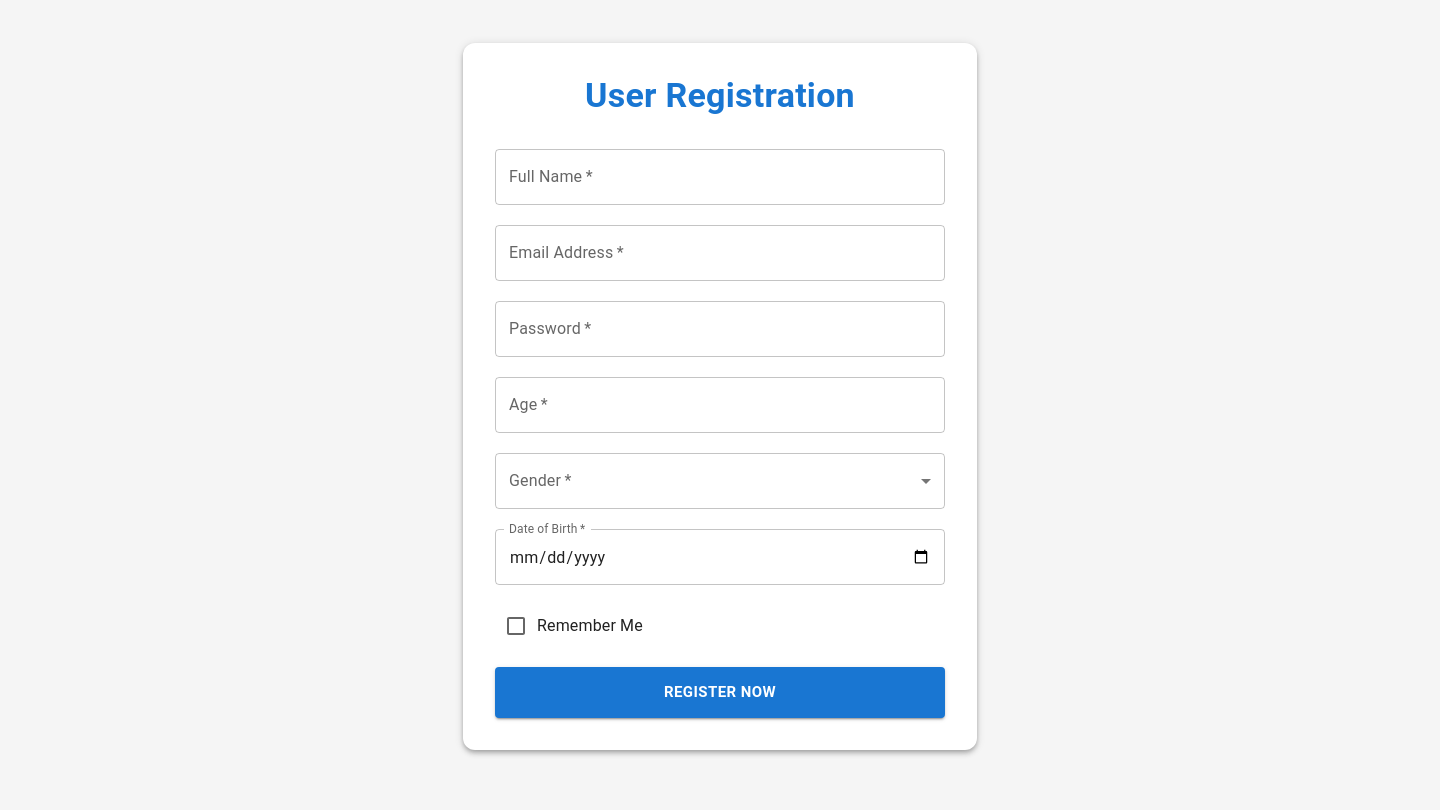
Test case: User Application Tests › Home Page - Registration Form › opens success dialog on valid form submission
The width and height of the screenshot is (1440, 810).
Type "John Doe" into the field labelled "Full Name *" at x=720, y=177, box [495,149,945,205]
Type "john@test.com" into the field labelled "Email Address *" at x=720, y=253, box [495,225,945,281]
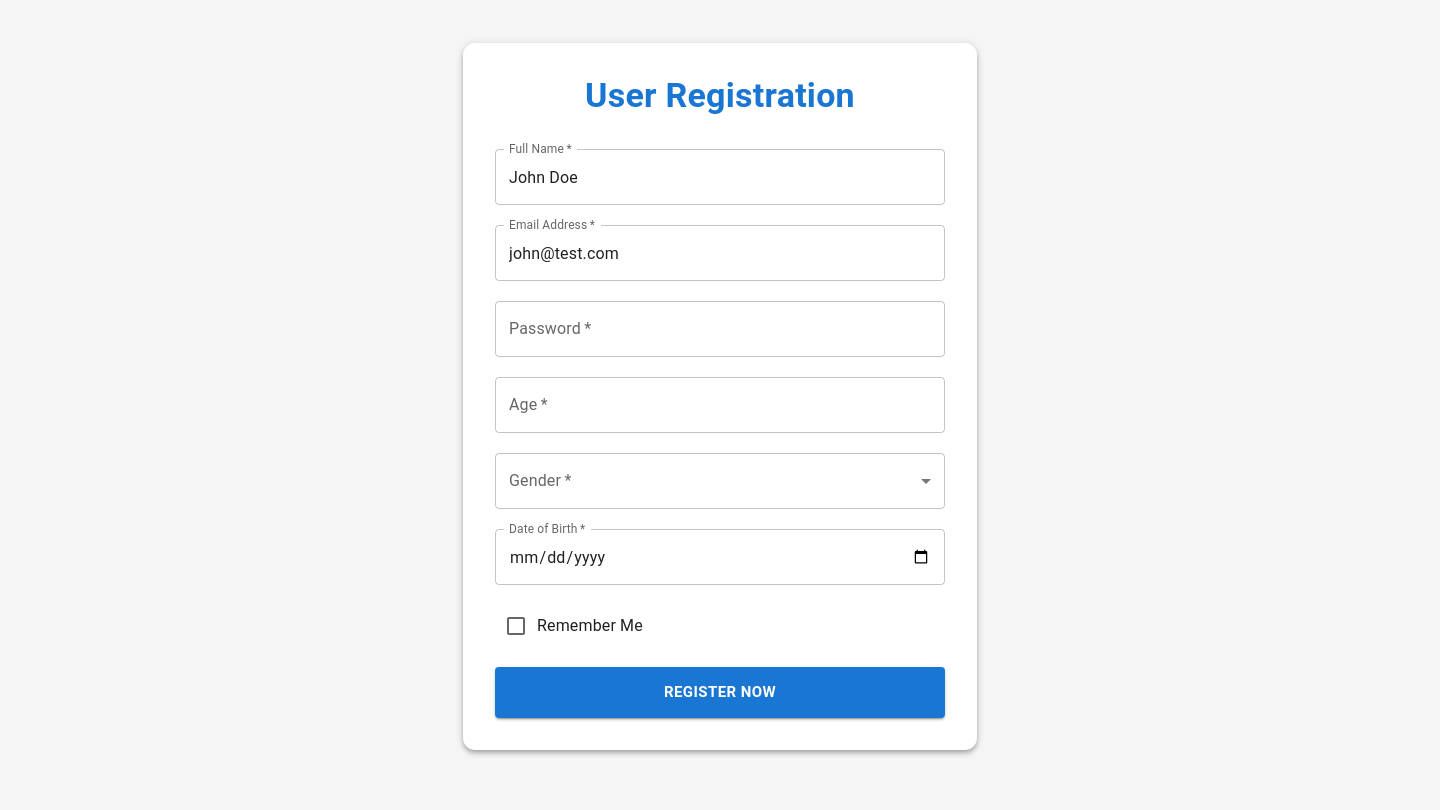
Type "password123" into the password field labelled "Password *" at x=720, y=329, box [495,301,945,357]
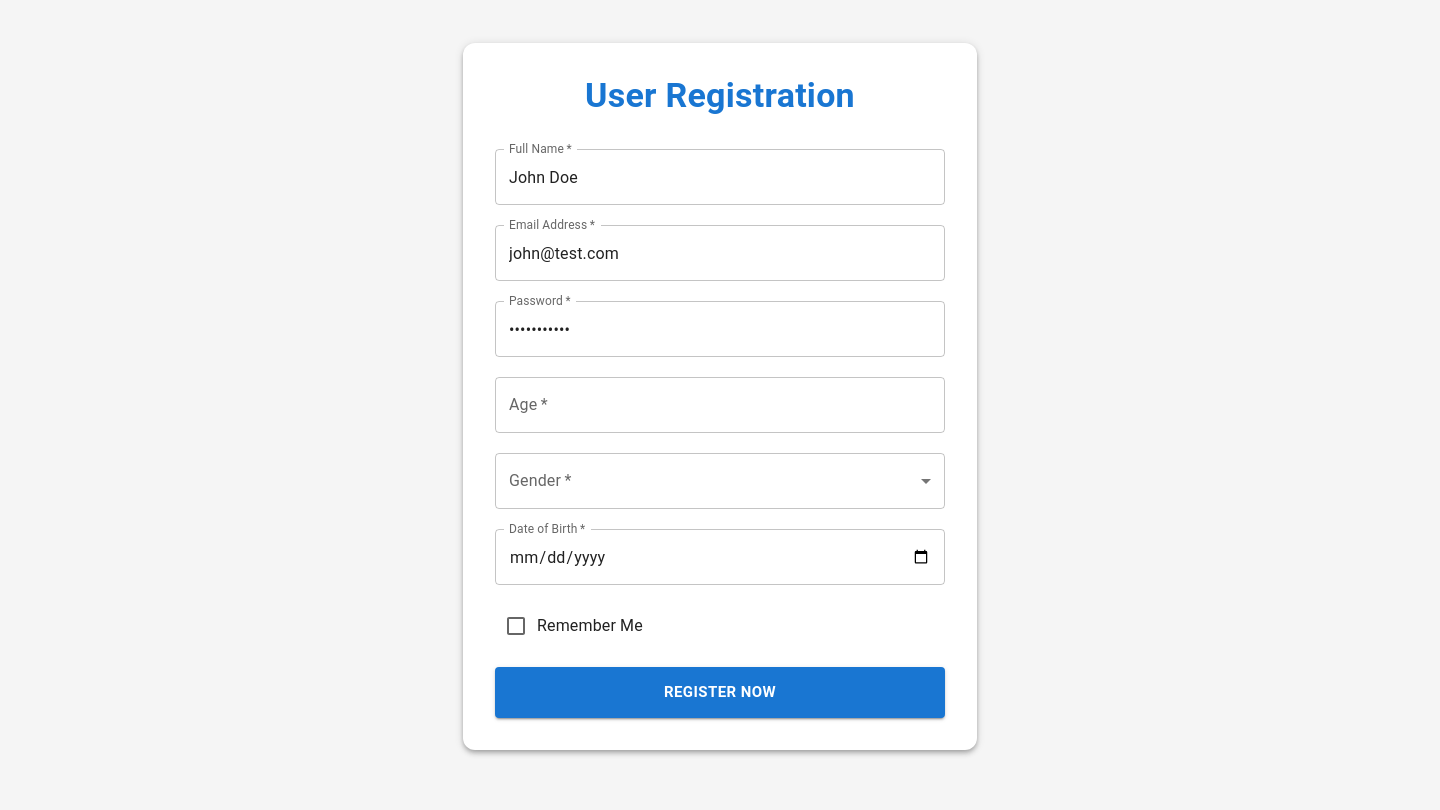
Type "25" into the number field labelled "Age *" at x=720, y=405, box [495,377,945,433]
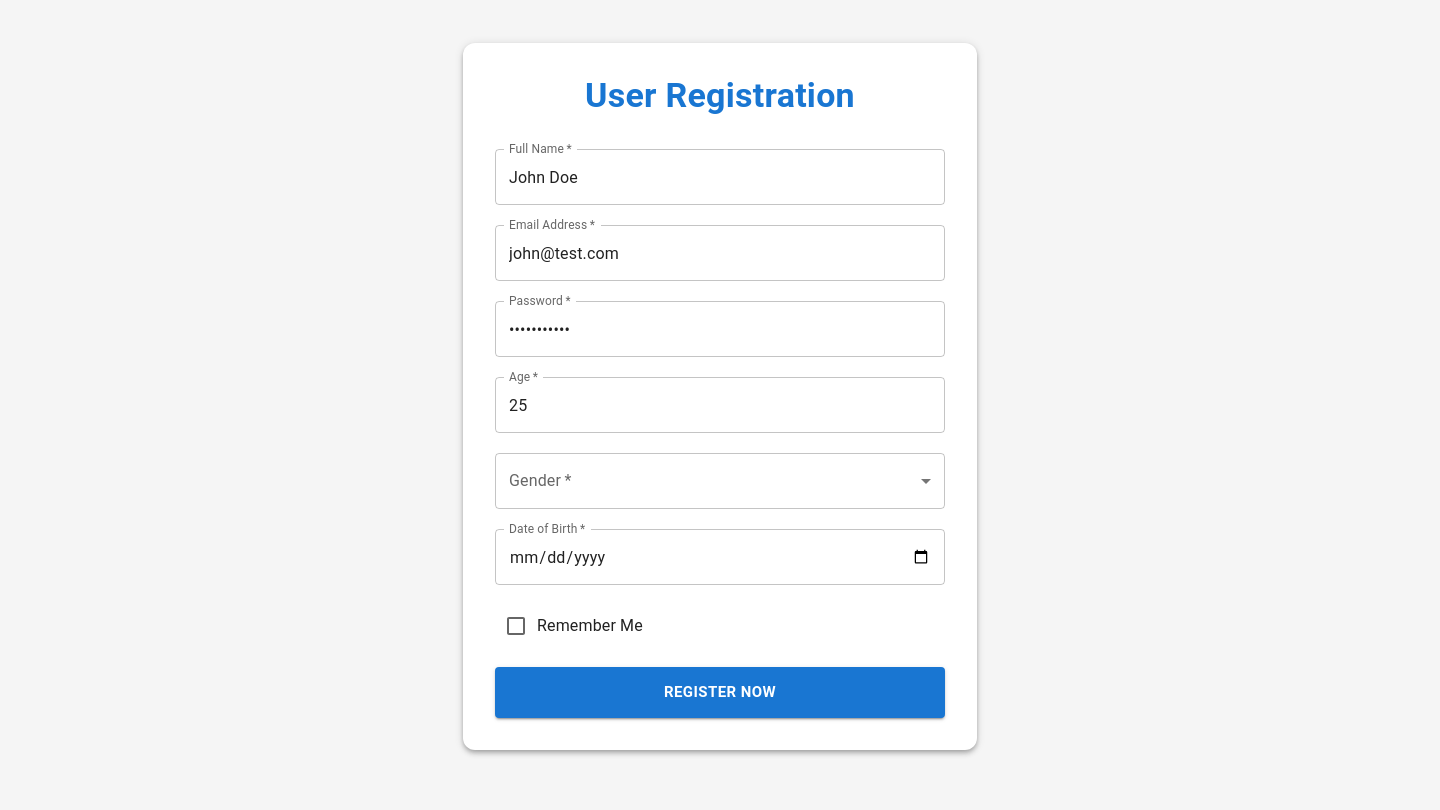
Type "1999-01-01" into the date field labelled "Date of Birth *" at x=720, y=557, box [495,529,945,585]
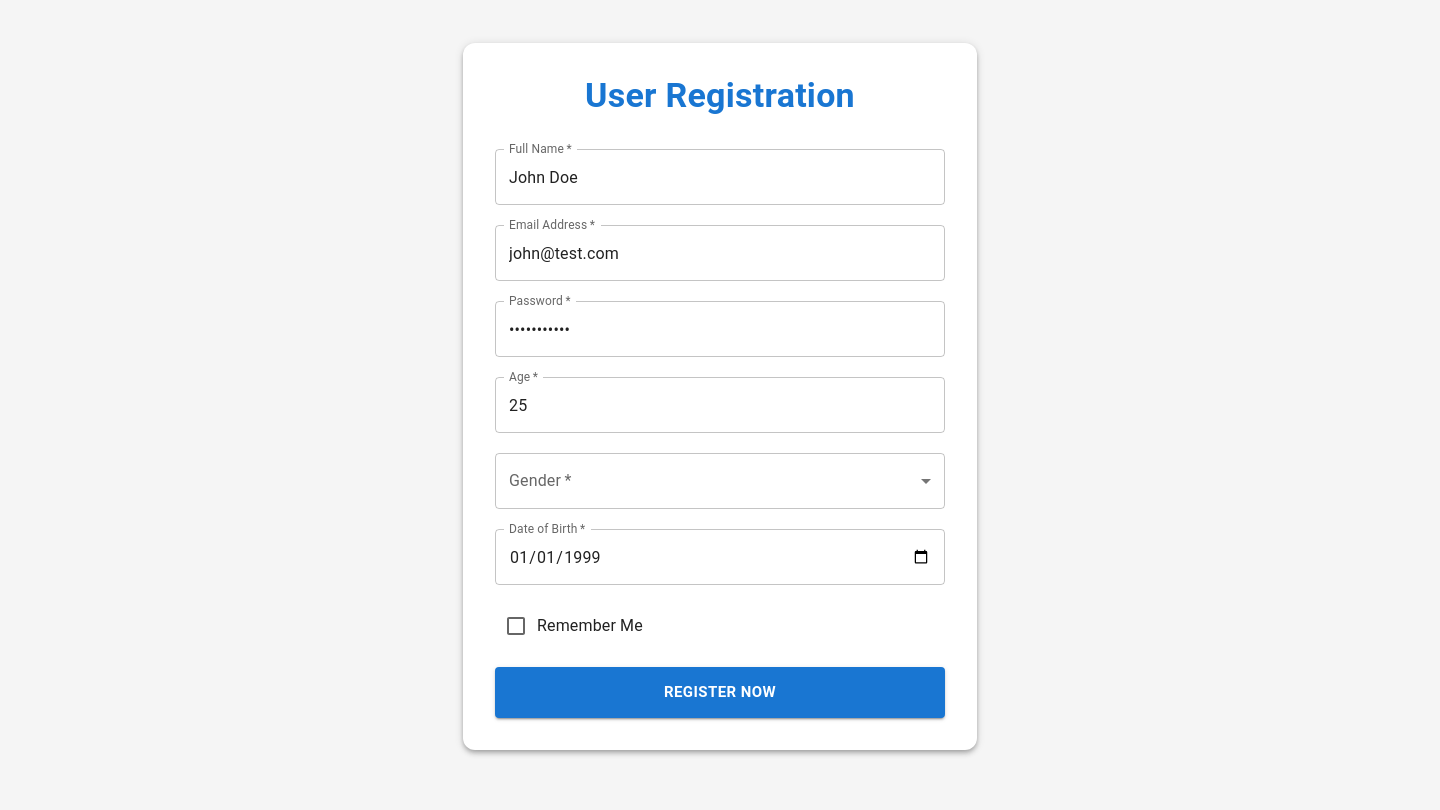
Note: Fix for MUI Select: Target the hidden input by name
Replace the text in the field named "gender" with "male" at x=720, y=481, box [495,453,945,509]
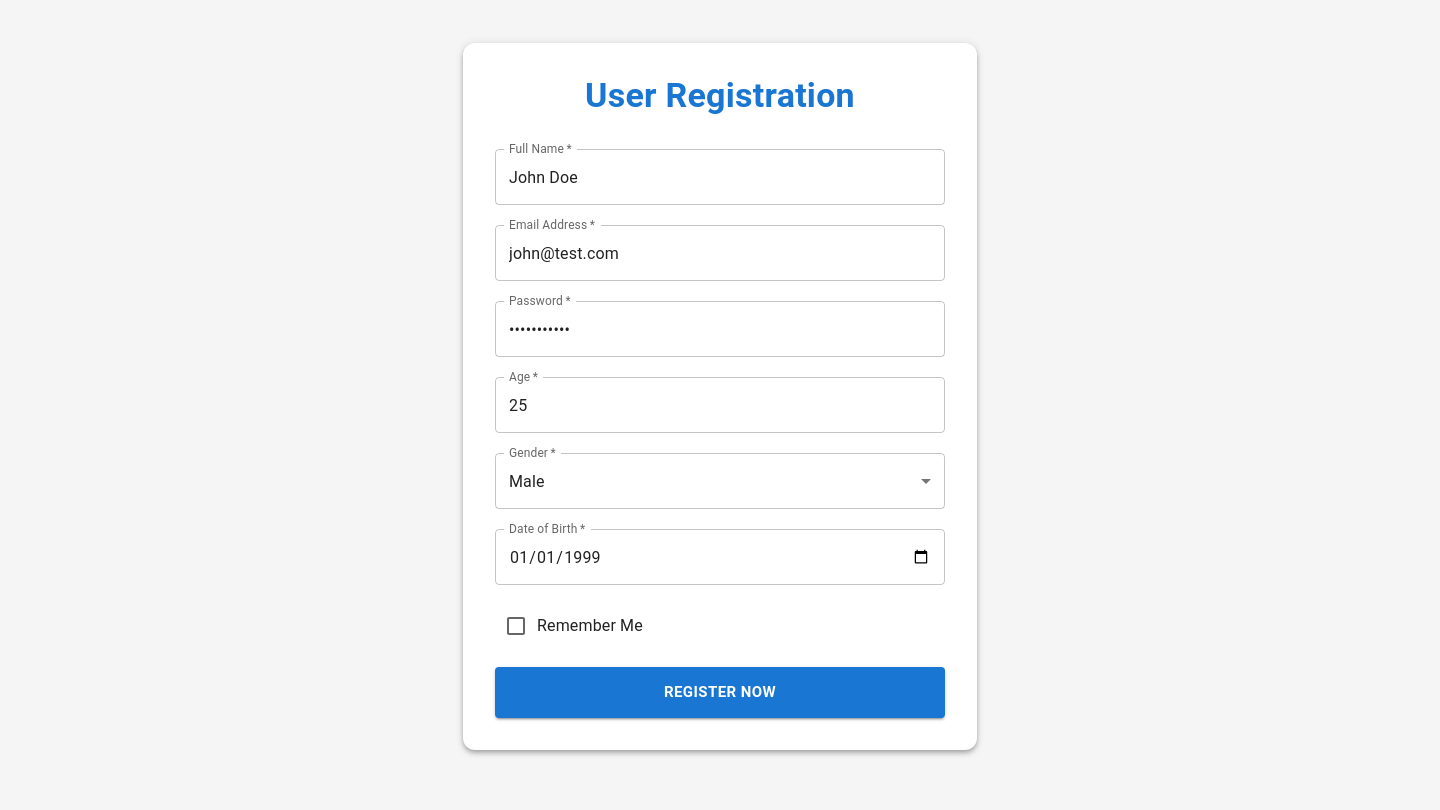
Click the button "REGISTER NOW" at x=720, y=693, box [495,667,945,718]
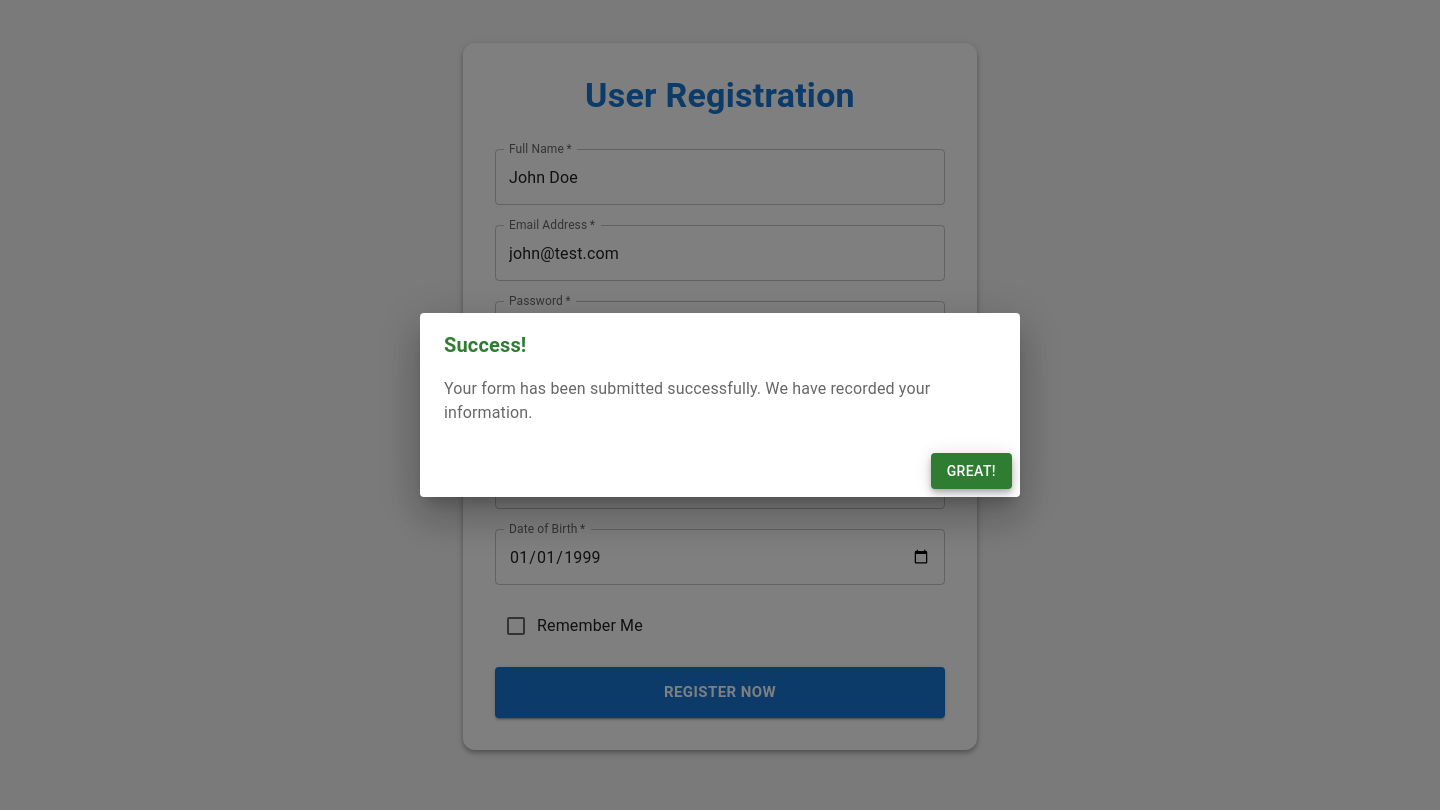
expect the heading "Success!" is shown: met, box [444,333,526,357]
expect the text "Your form has been submitted successfully" is shown: met, box [444,379,930,422]
